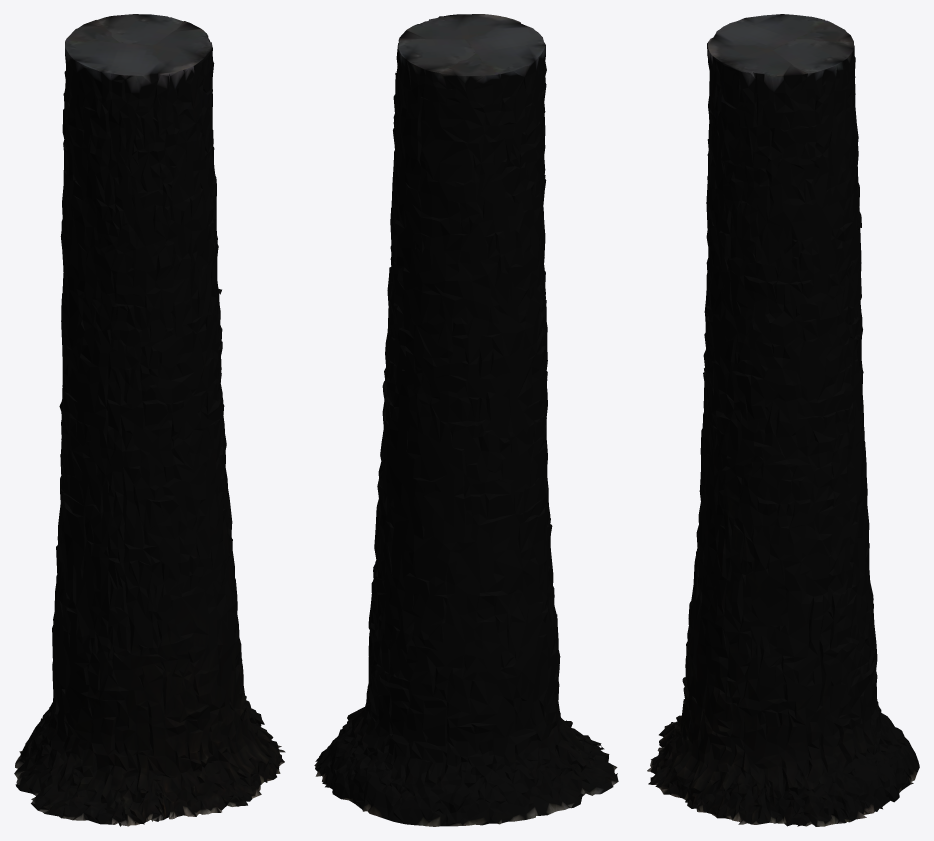
File: palm_sabal_far.glb
3 renders of one model, left to right at view 1: azimuth 30°, elevation 25°; view 2: azimuth 150°, elevation 25°; view 3: azimuth 270°, elevation 25°, orthographic.
Parts seen in each view (by area): view 1: SabalPalmA; view 2: SabalPalmA; view 3: SabalPalmA.
Part boxes in pixels (box(x1,y1,x2,y2)): SabalPalmA: box(14, 14, 285, 826); SabalPalmA: box(314, 14, 618, 826); SabalPalmA: box(647, 14, 919, 826).
Bounding box in the file's own units: 11.47 × 31.47 × 10.83.
Materials: 1 (1 with a texture image).
